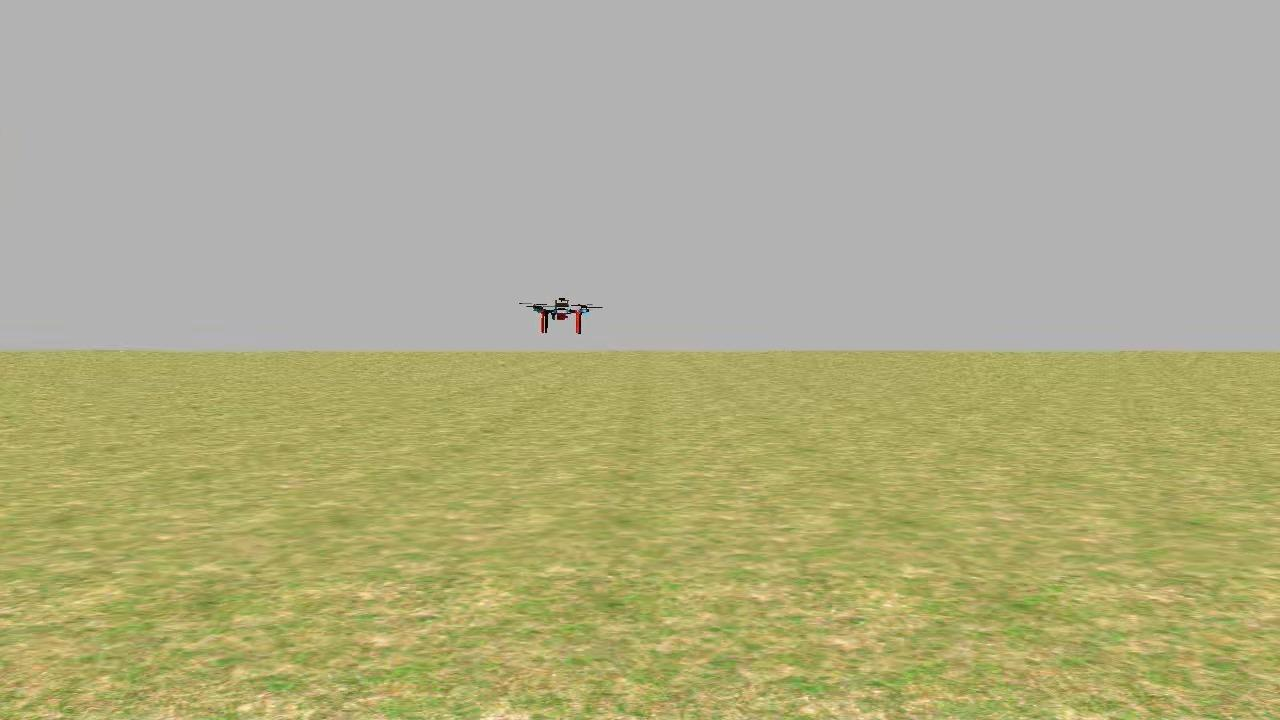UAV: (528, 288, 592, 339)
